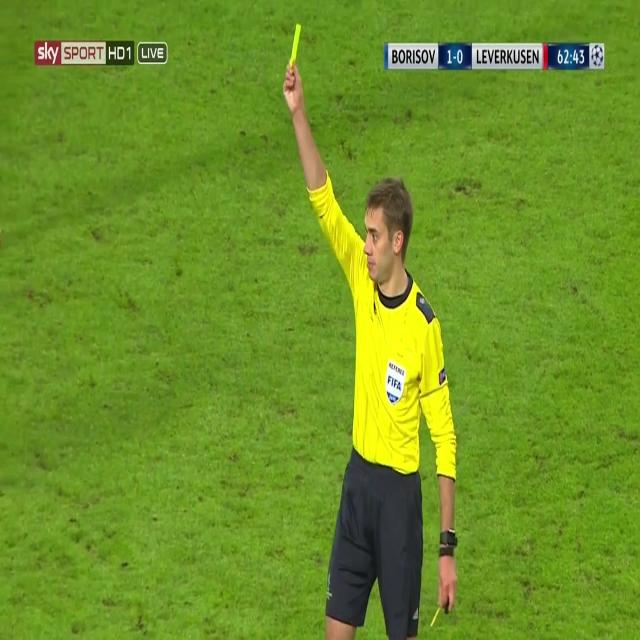Referee: (279, 55, 463, 639)
